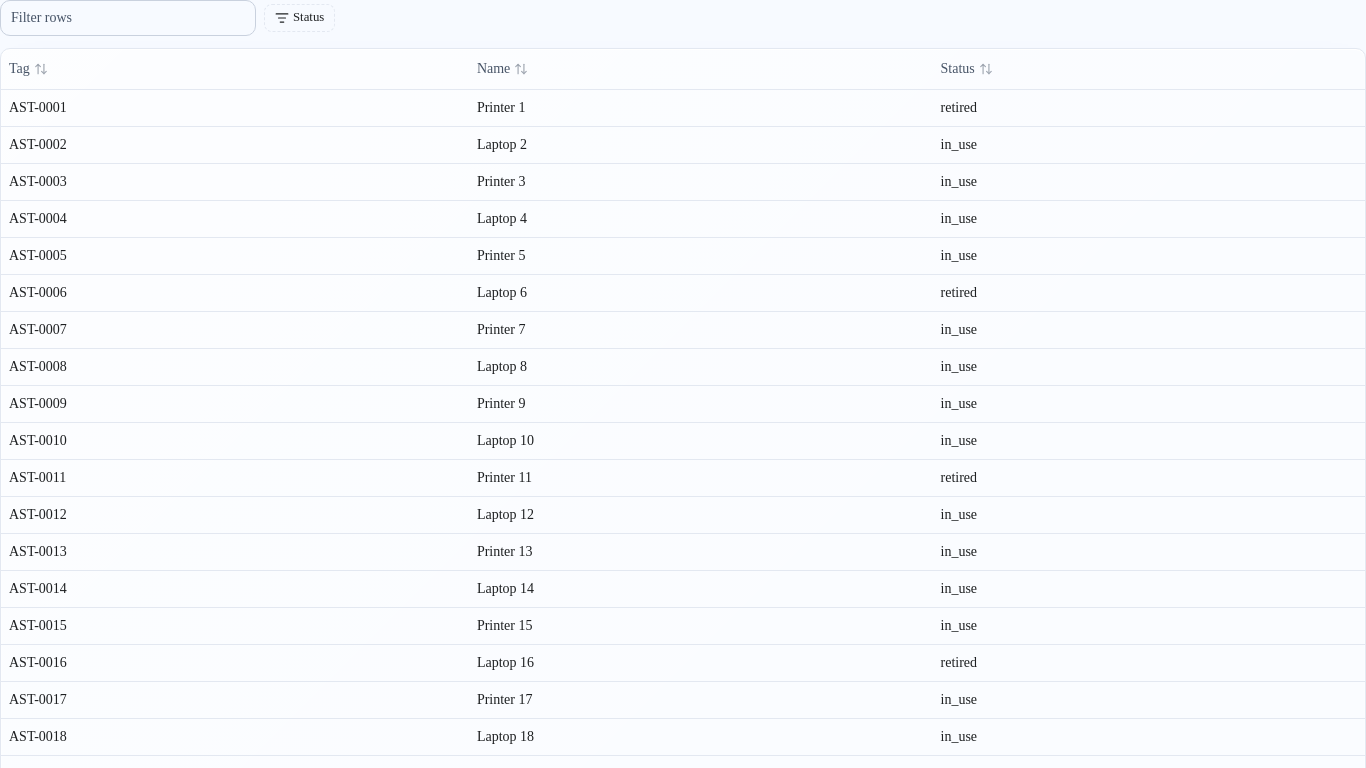
Test: DataTable › filters by a facet and shows how many rows each option holds
This screenshot has width=1366, height=768.
Step 1. Click the 1st button "Status" → click(300, 18), box left=264, top=4, right=335, bottom=32
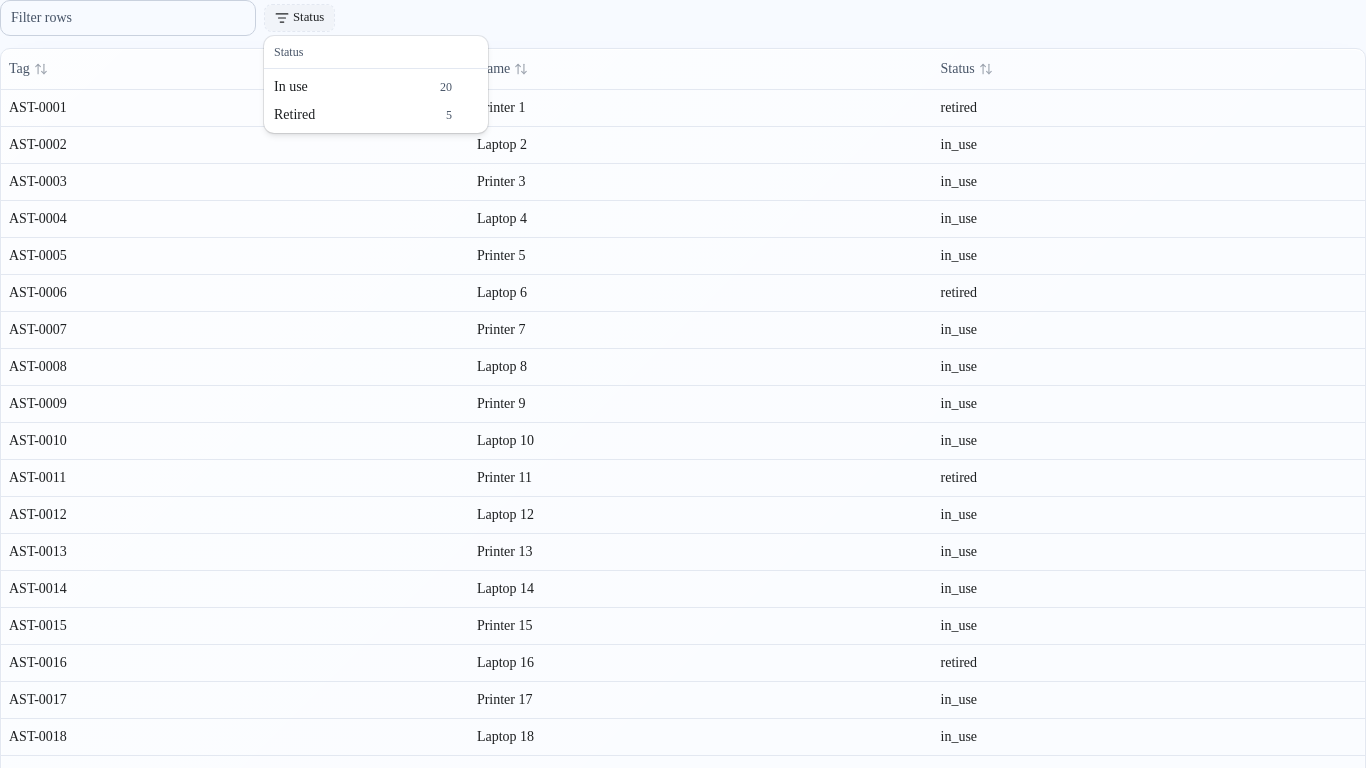
Expected: the menu item "Retired 5" is shown
Step 2. Click the menu item "Retired 5" → click(295, 114), box left=274, top=107, right=452, bottom=122
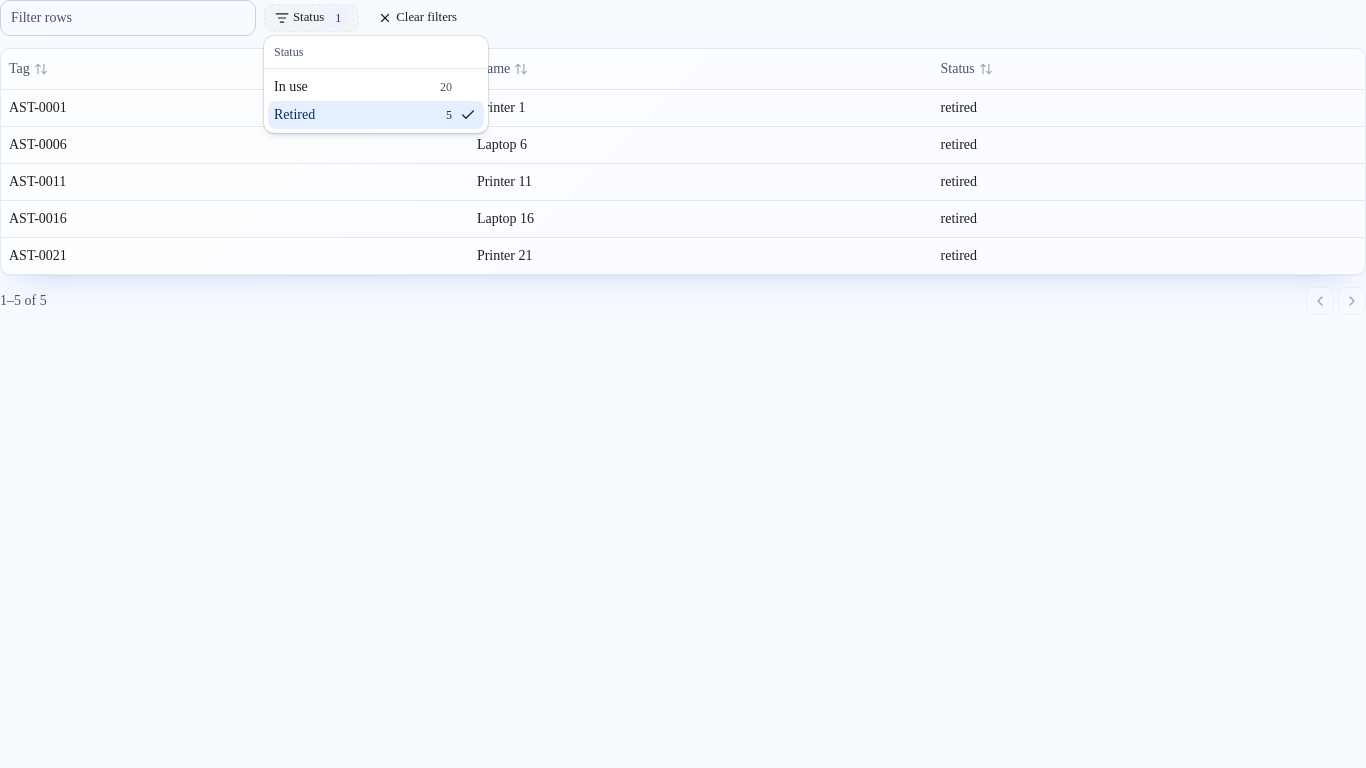
Step 3. Press Escape
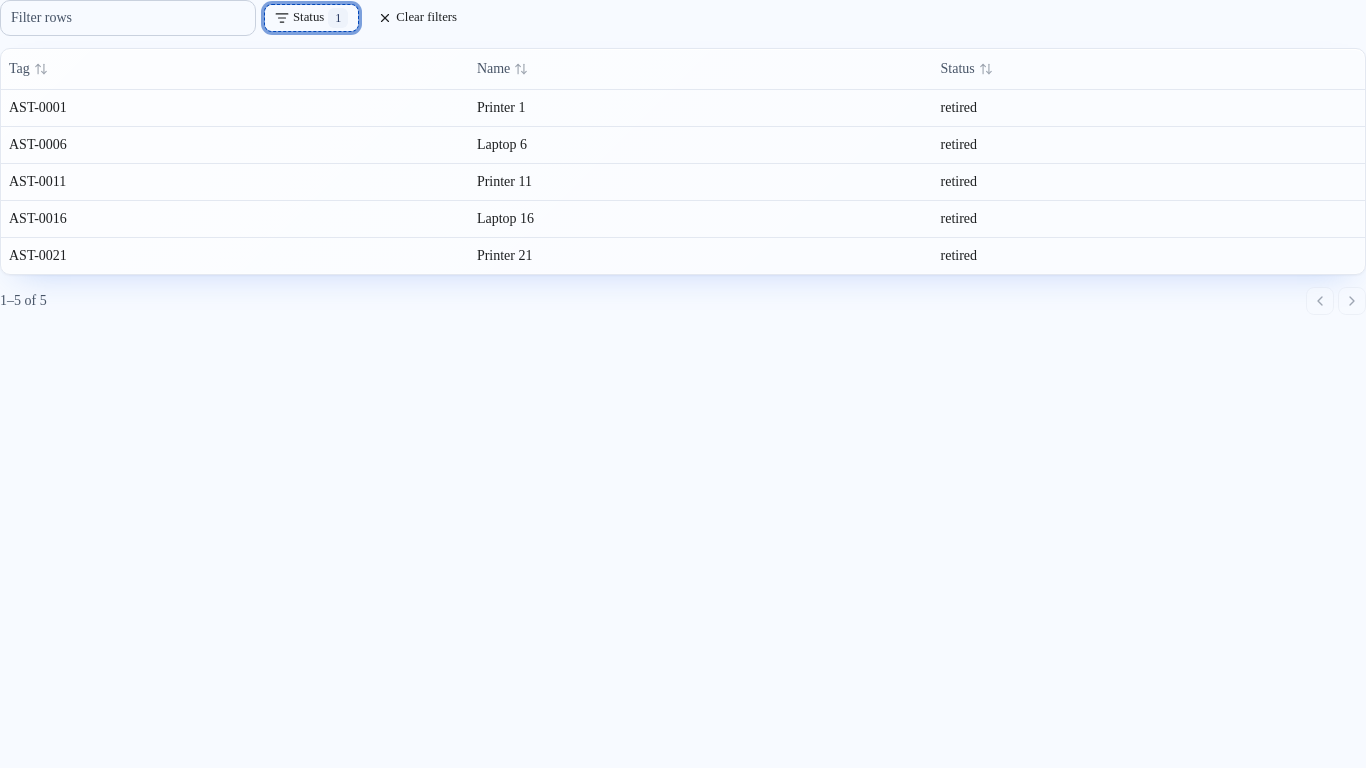
Step 4. Click the button "Clear filters" → click(418, 18), box left=367, top=4, right=468, bottom=32
(page scrolled)
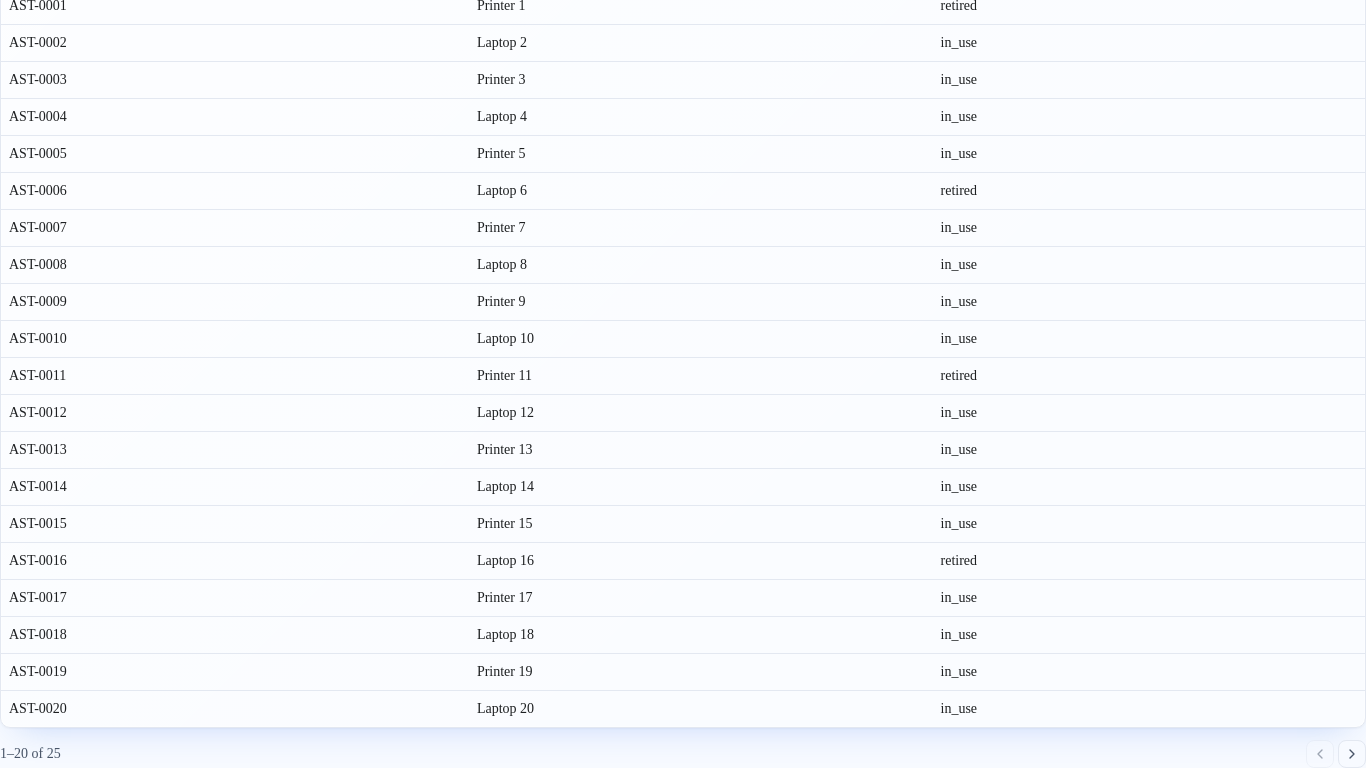
Expected: the text "1–20 of 25" is shown, left=0, top=744, right=61, bottom=764
